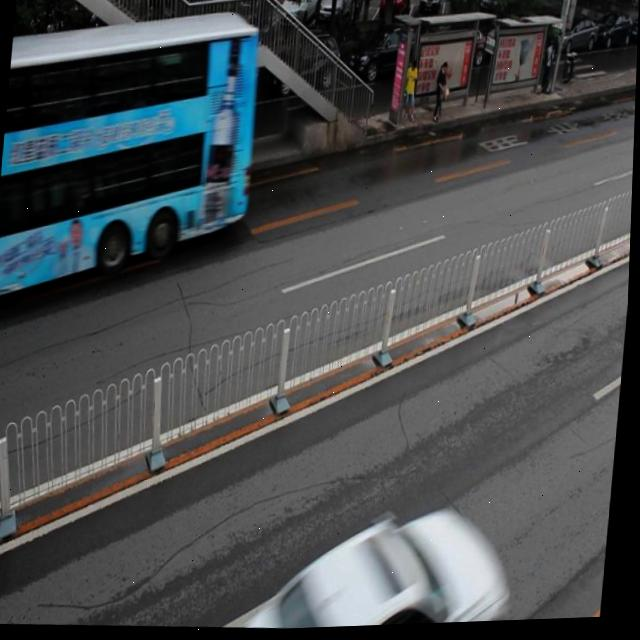car: (221, 494, 518, 633), (52, 64, 153, 145), (156, 52, 261, 119), (157, 70, 237, 155), (342, 24, 429, 95), (263, 34, 341, 104), (4, 87, 43, 150)
van: (0, 0, 266, 313)
